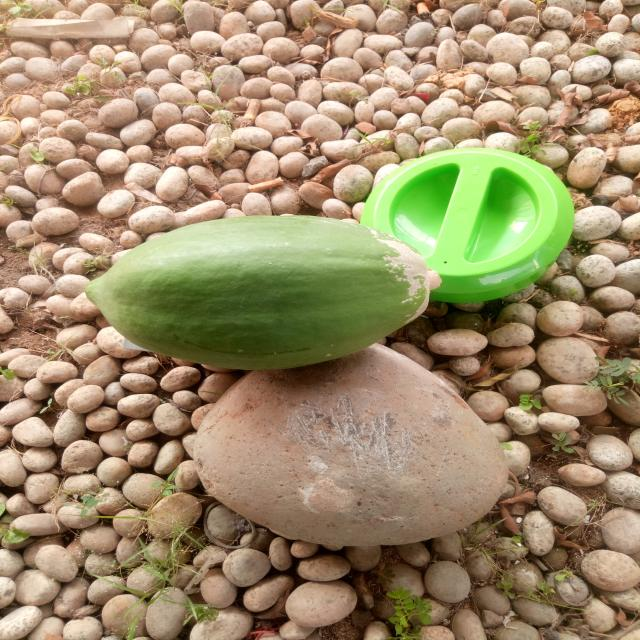Pepaya unrippen: (89, 214, 433, 371)
